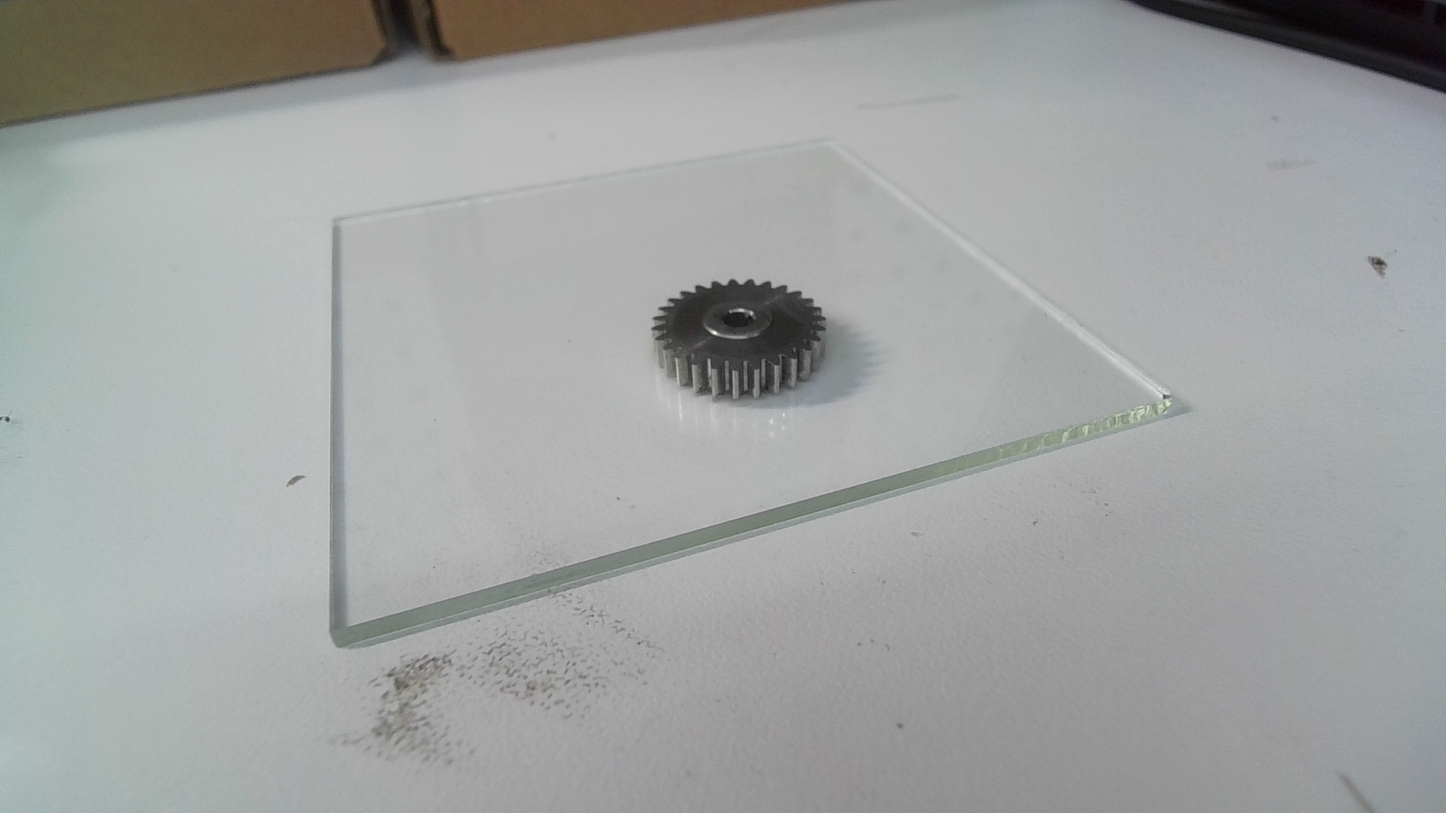gear: (647, 277, 830, 404)
